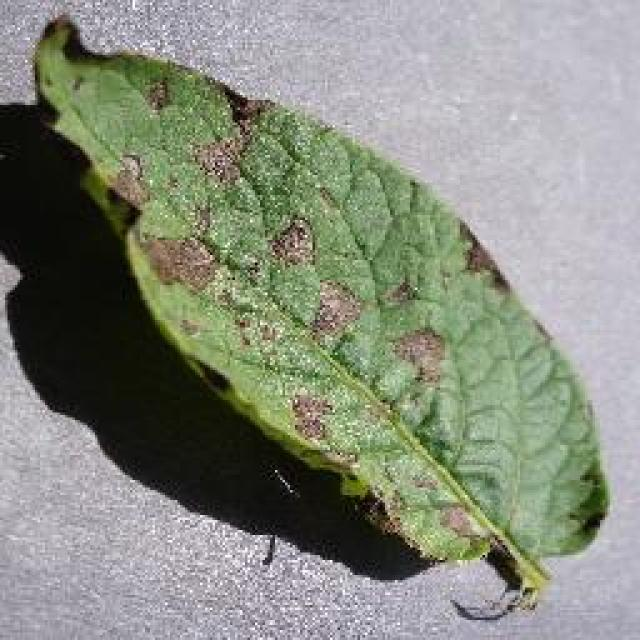early_blight: (25, 12, 613, 612)
